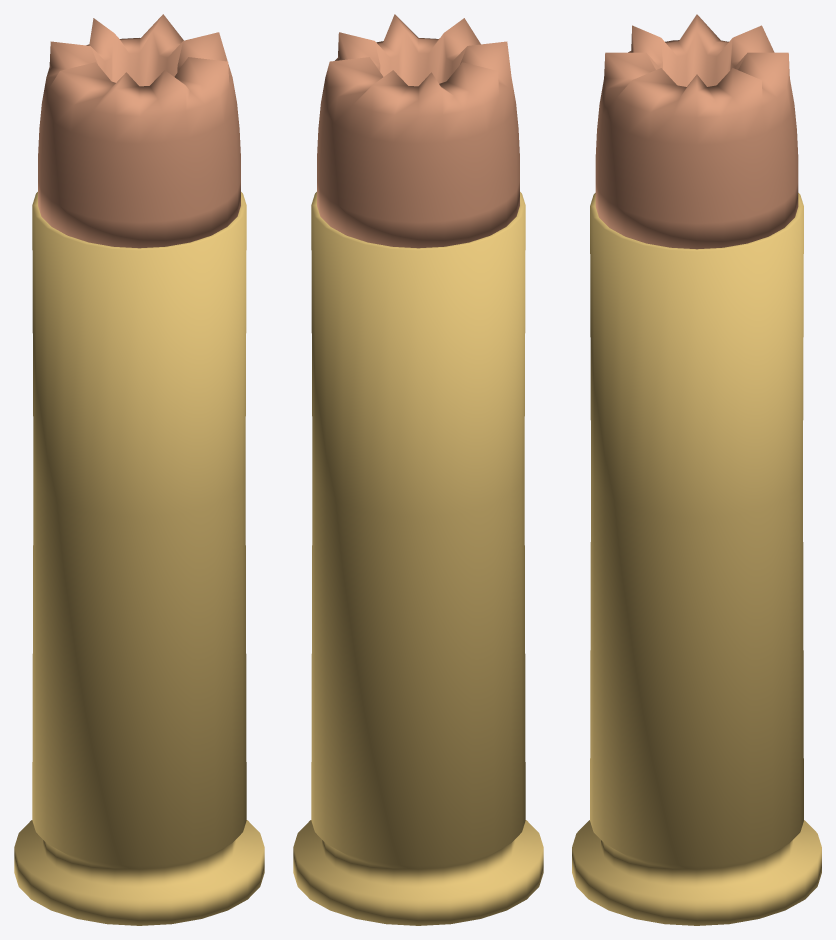
The picture shows the model from 3 angles, left to right: view 1: azimuth 30°, elevation 25°; view 2: azimuth 150°, elevation 25°; view 3: azimuth 270°, elevation 25°; orthographic projection.
Visible parts, largest first — view 1: vaina, bala_flor; view 2: vaina, bala_flor; view 3: vaina, bala_flor.
Part boxes in pixels (x1=…): vaina: x1=14, y1=192, x2=264, y2=925; bala_flor: x1=38, y1=14, x2=240, y2=248; vaina: x1=293, y1=192, x2=543, y2=925; bala_flor: x1=317, y1=14, x2=519, y2=248; vaina: x1=572, y1=193, x2=821, y2=925; bala_flor: x1=595, y1=14, x2=798, y2=249.
Bounding box in the file's own units: 0.0112 × 0.0406 × 0.0112.
